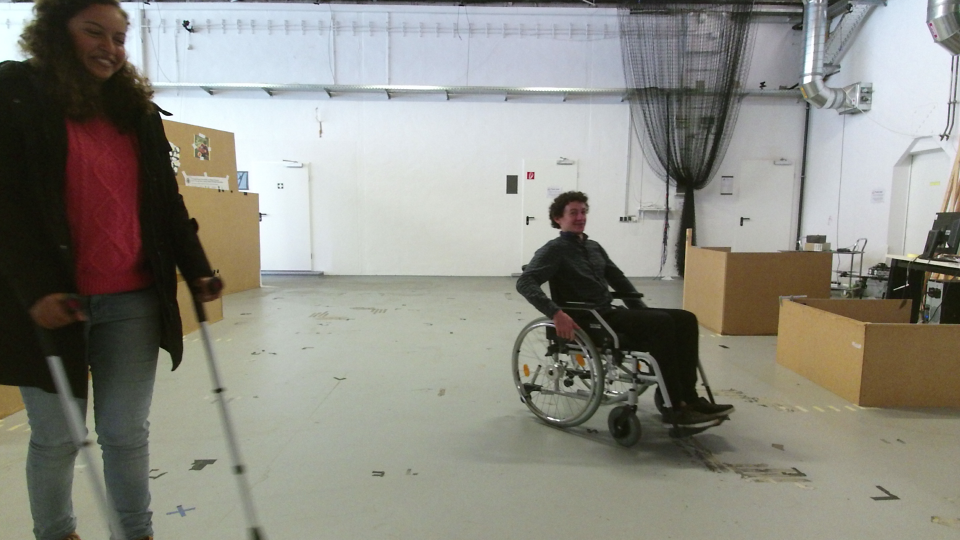crutches: (1, 1, 282, 540)
wheelchair: (504, 187, 744, 450)
